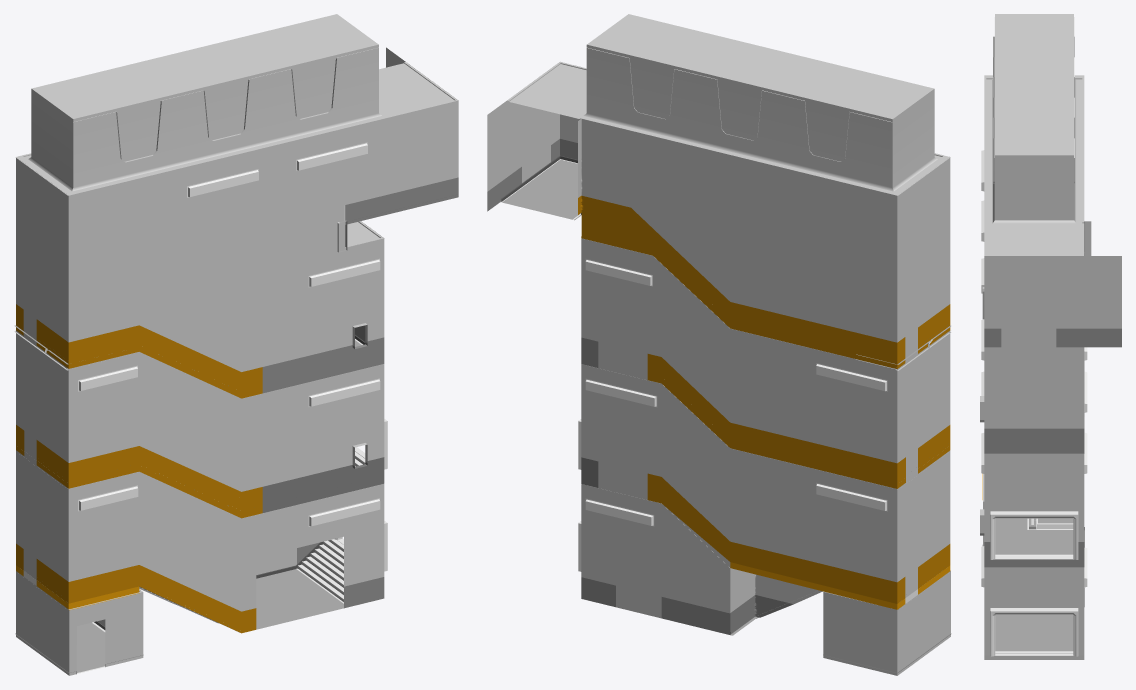
3 views of the same model, side by side, from view 1: azimuth 30°, elevation 25°; view 2: azimuth 150°, elevation 25°; view 3: azimuth 270°, elevation 25° (orthographic). The views are drawn at different scales.
Parts seen in each view (by area): view 1: SM_H_Building_FutureTech_HBlack_01_InterWall_05D; view 2: SM_H_Building_FutureTech_HBlack_01_InterWall_05D; view 3: SM_H_Building_FutureTech_HBlack_01_InterWall_05D.
Boxes of the visible parts, bbox=[...] form: SM_H_Building_FutureTech_HBlack_01_InterWall_05D: bbox=[14, 14, 458, 675]; SM_H_Building_FutureTech_HBlack_01_InterWall_05D: bbox=[487, 14, 951, 675]; SM_H_Building_FutureTech_HBlack_01_InterWall_05D: bbox=[980, 14, 1121, 659].
Bounding box in the file's own units: 261 × 789 × 1072.
